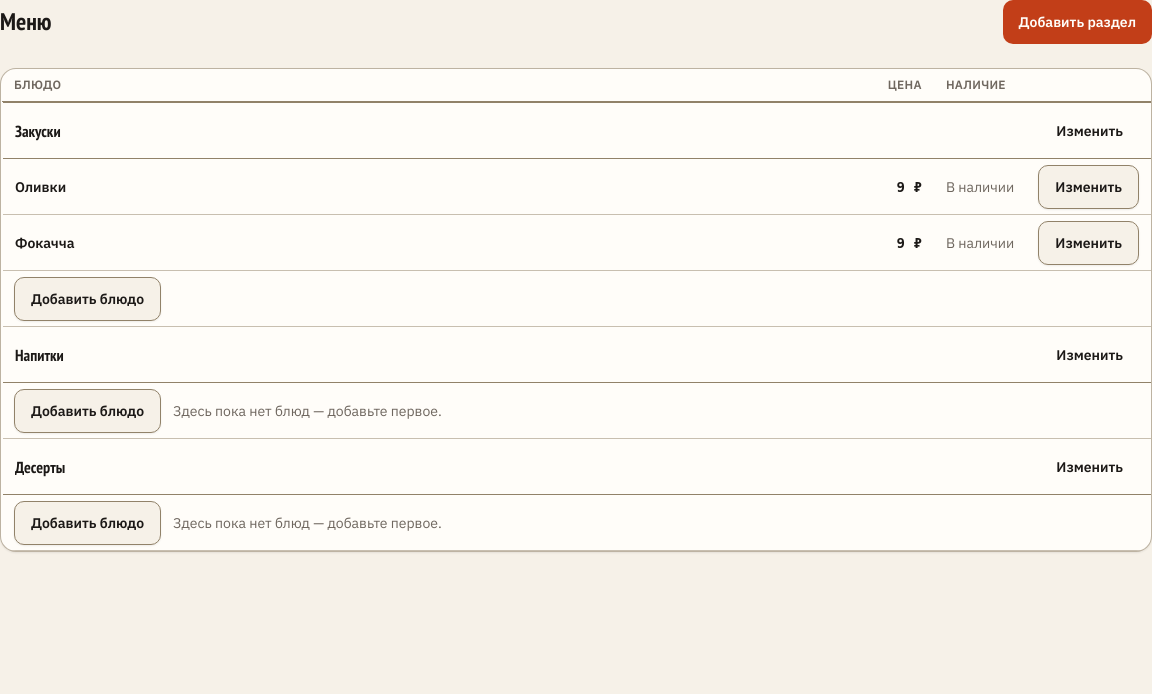
MenuTable › keeps one row open at a time and throws the closed row’s draft away
This screenshot has width=1152, height=694.
Click the button "Изменить" in the row of "Оливки" at (1089, 186), box [1038,164,1139,208]
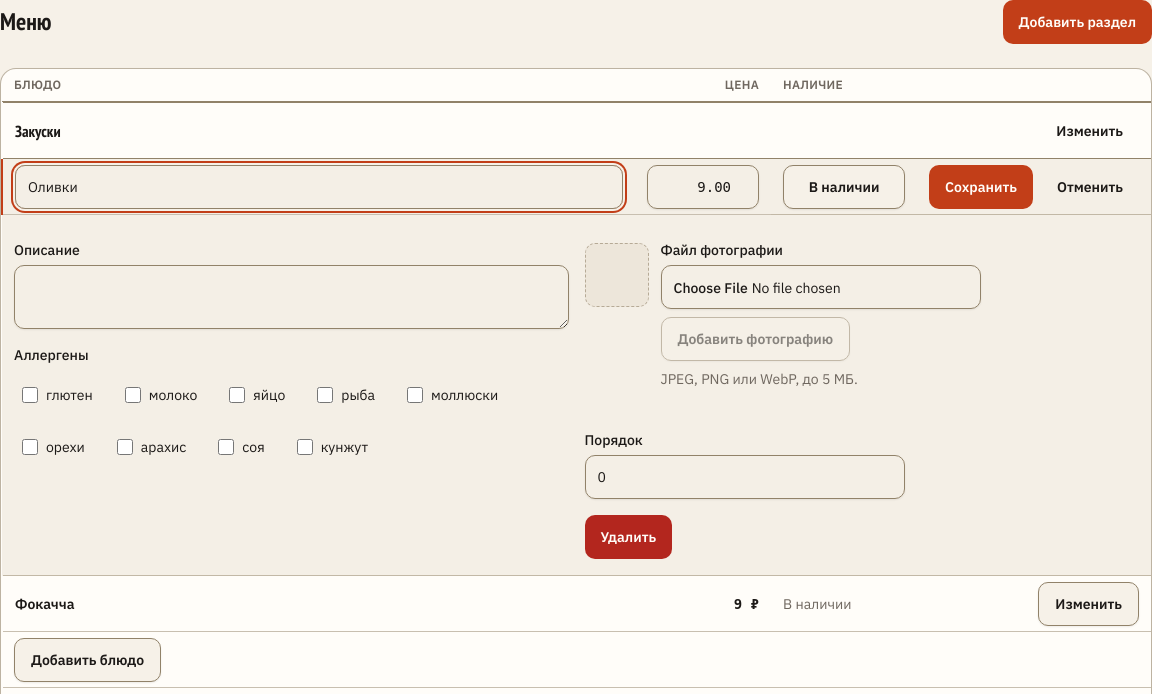
Replace the text in the field named "Название" with "Оливки с тимьяном" at (319, 186), box [15,164,623,208]
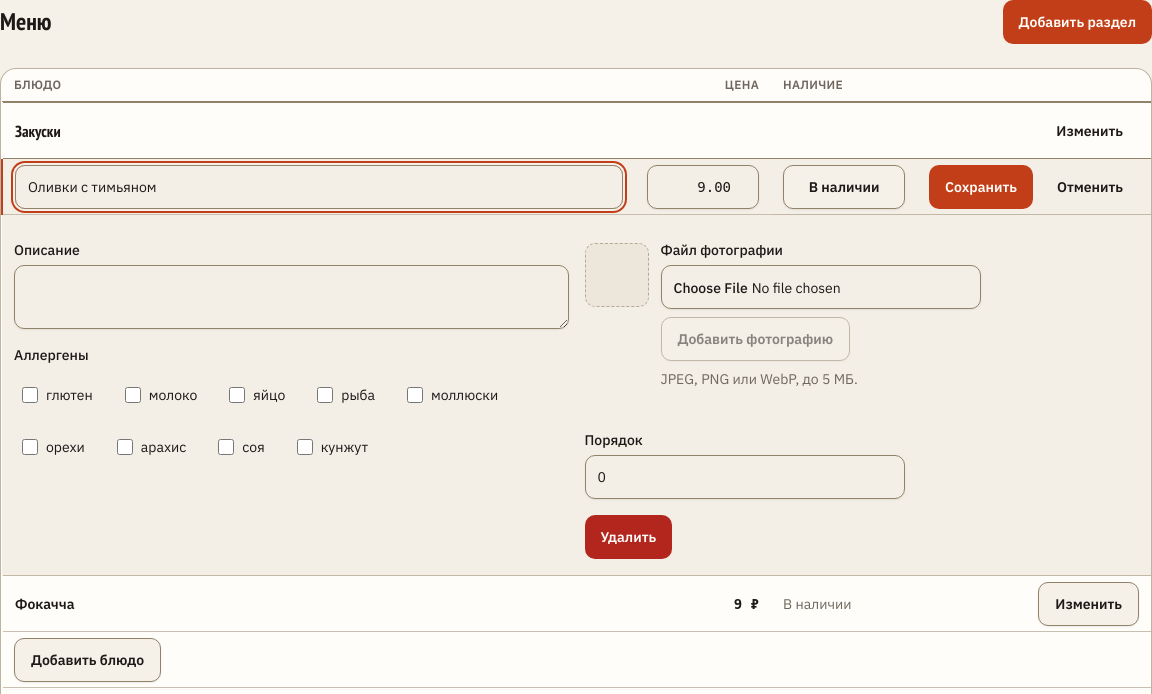
Click the button "Изменить" in the row of "Фокачча" at (1089, 604), box [1038,582,1139,626]
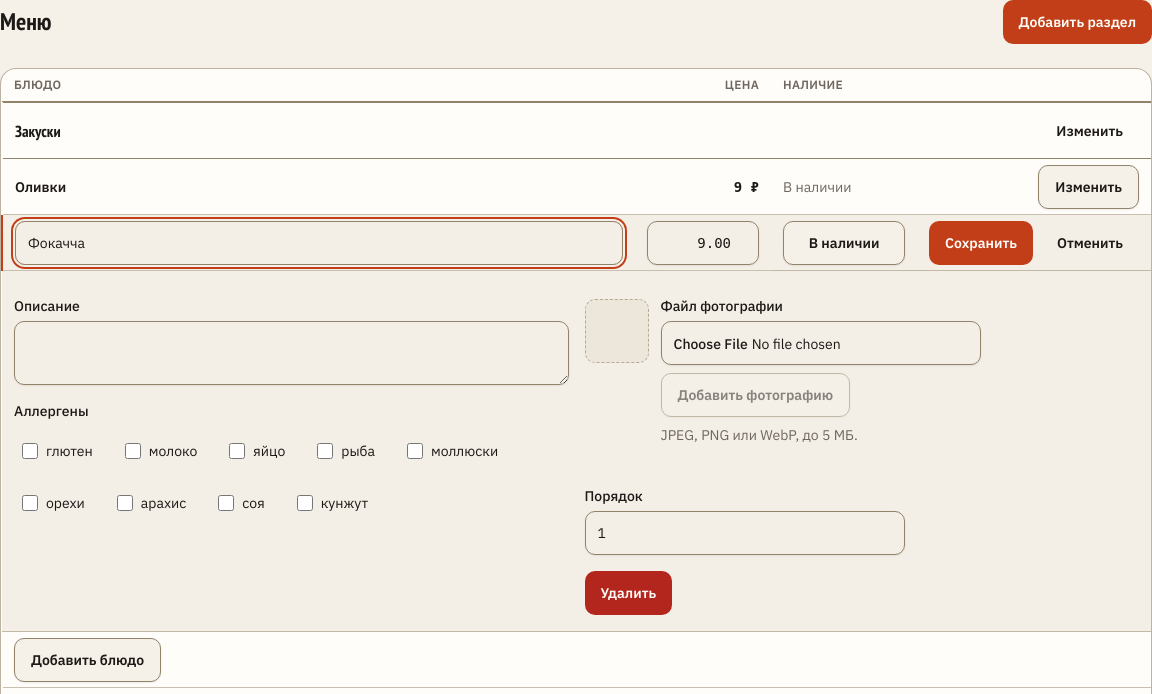
Check: the number of fields named "Название" is 1, box [15,220,623,264]
Check: the field named "Название" holds "Фокачча", box [15,220,623,264]
Check: the column heading "Оливки" is shown, box [2,158,635,214]
Click the button "Изменить" in the row of "Оливки" at (1089, 186), box [1038,164,1139,208]
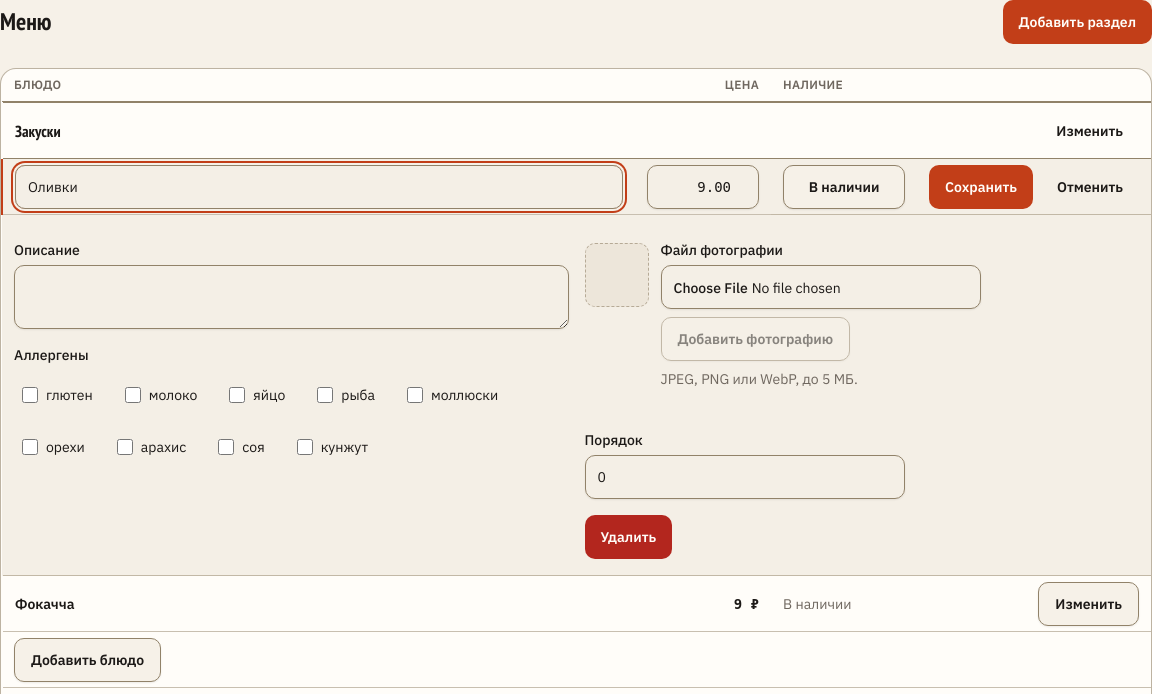
Check: the field named "Название" holds "Оливки", box [15,164,623,208]
